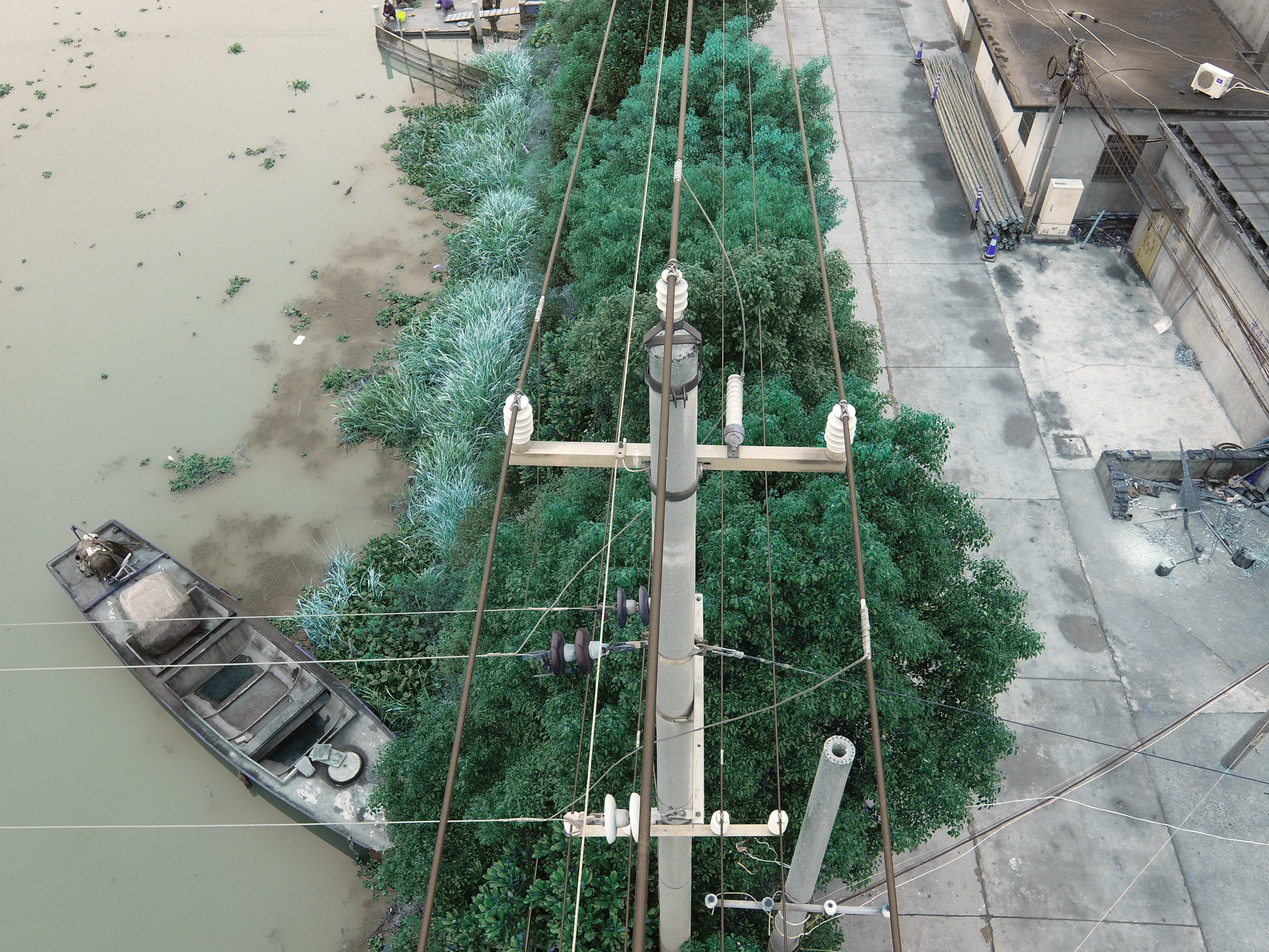severe_soiling_no_discharge_whole: (761, 895, 776, 912), (881, 903, 892, 919)
